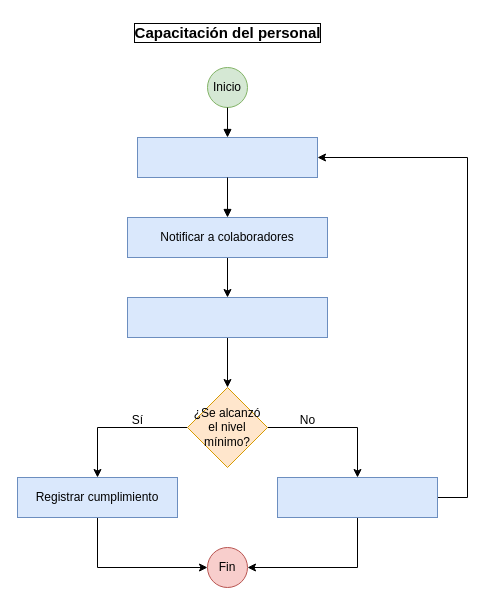
The diagram is 493 pixels wide and 605 high, and some of its shapes have lost their labels. Each missing label, with the centre of its shape:
"Evaluar resultados" belongs at point (227, 317).
"Programar capacitación" belongs at point (227, 157).
"Reprogramar refuerzo" belongs at point (357, 497).
